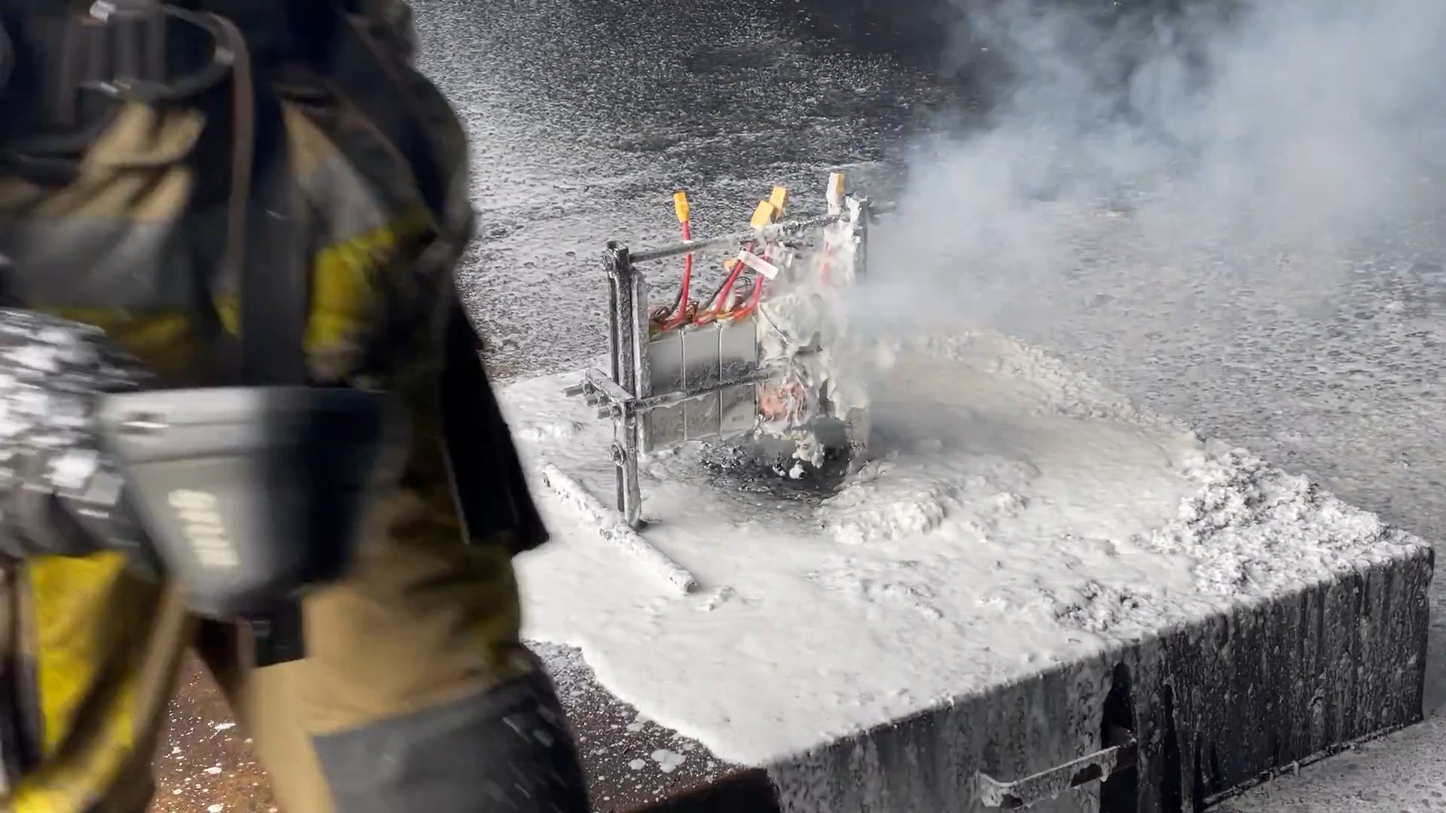smoke: (821, 0, 1444, 350)
